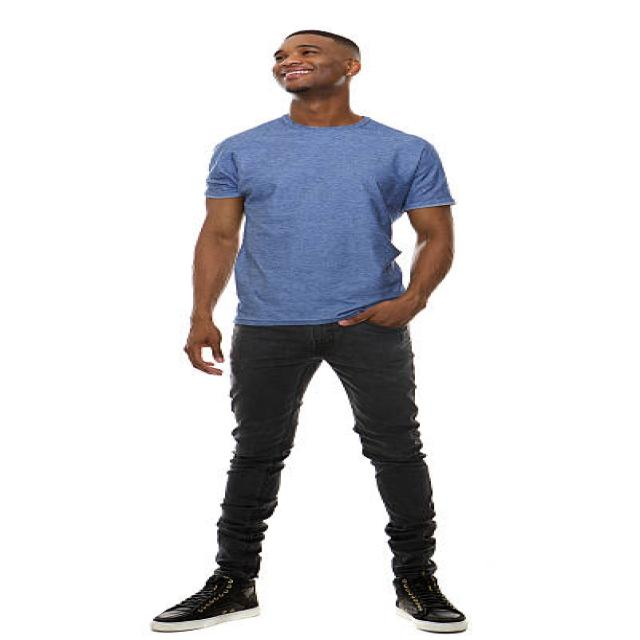Edited images: (153, 22, 508, 640)
